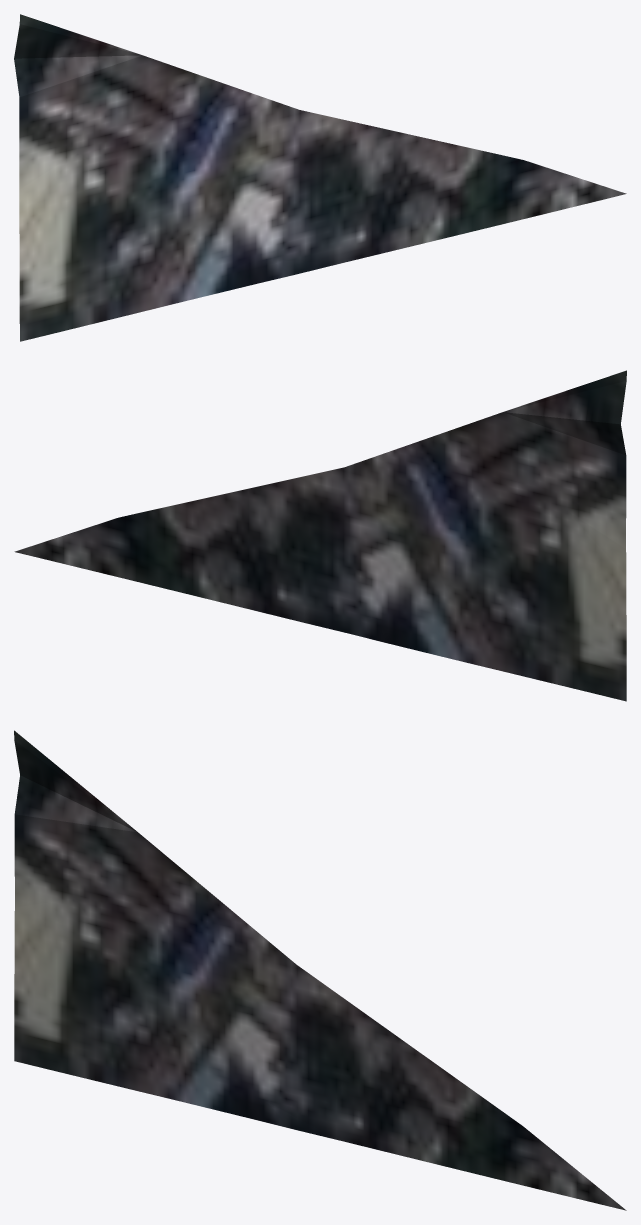
3 renders of one model, top to bottom at view 1: azimuth 30°, elevation 25°; view 2: azimuth 150°, elevation 25°; view 3: azimuth 330°, elevation 25°, orthographic.
Visible parts, largest first — view 1: 0_3_0_1; view 2: 0_3_0_1; view 3: 0_3_0_1.
Boxes of the visible parts, box(x1,y1,x2,y2) form: 0_3_0_1: box(14, 14, 626, 341); 0_3_0_1: box(14, 370, 626, 701); 0_3_0_1: box(14, 730, 626, 1210).
Bounding box in the file's own units: 241 × 124 × 4.25.
1 material, 1 textured.
